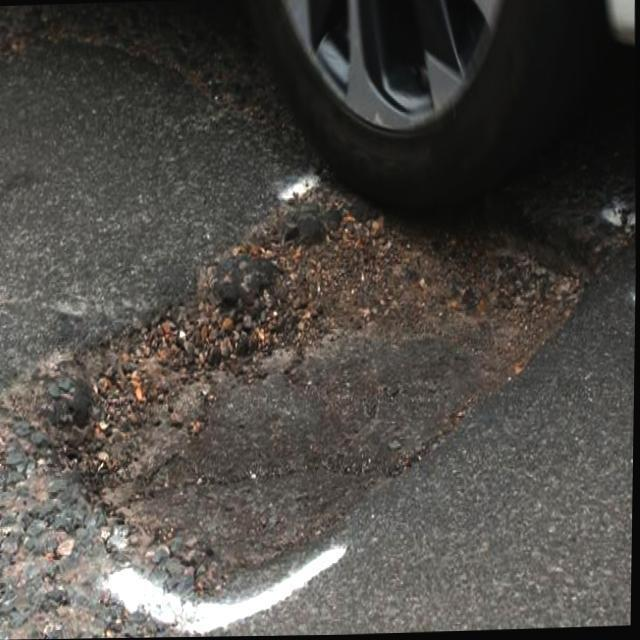Pothole: (0, 166, 616, 592)
